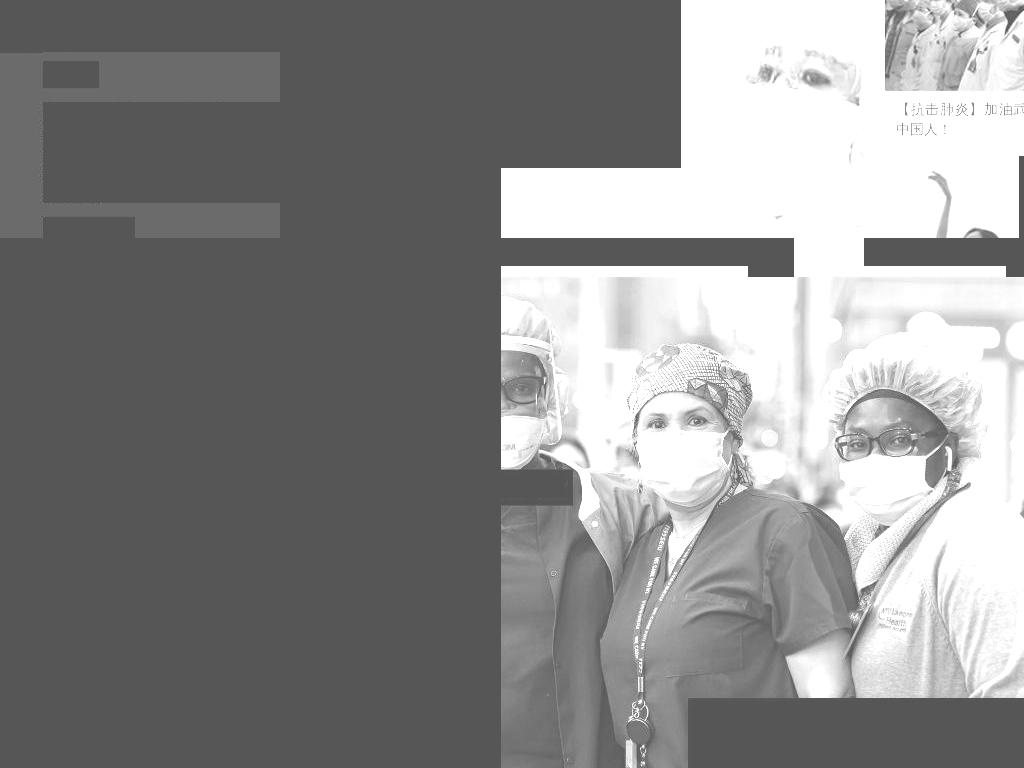button: (37, 638, 501, 768), (57, 238, 221, 321), (599, 238, 749, 266), (864, 238, 1007, 266), (501, 238, 600, 266), (43, 217, 135, 238), (748, 238, 794, 277)
heading: (37, 342, 501, 768), (57, 429, 501, 557), (43, 102, 281, 203), (43, 0, 281, 52)
image: (501, 0, 865, 238), (37, 638, 501, 768), (280, 0, 501, 238), (501, 0, 681, 168), (50, 238, 235, 313), (885, 0, 1024, 91), (885, 171, 1024, 238), (0, 0, 43, 53)
link: (0, 238, 501, 768), (896, 102, 1024, 137)
text: (57, 568, 501, 618), (718, 723, 1024, 768), (67, 362, 212, 378), (43, 61, 99, 88), (217, 360, 264, 379), (80, 227, 120, 238)
